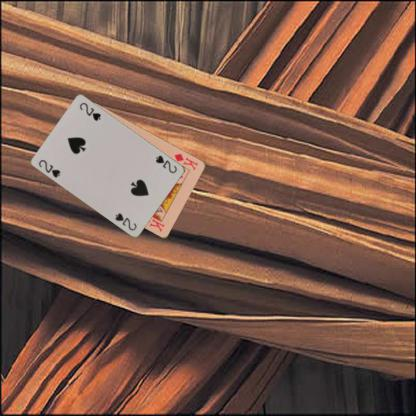2s: (153, 152, 179, 174), (36, 157, 62, 179)
Kd: (172, 150, 199, 172)
